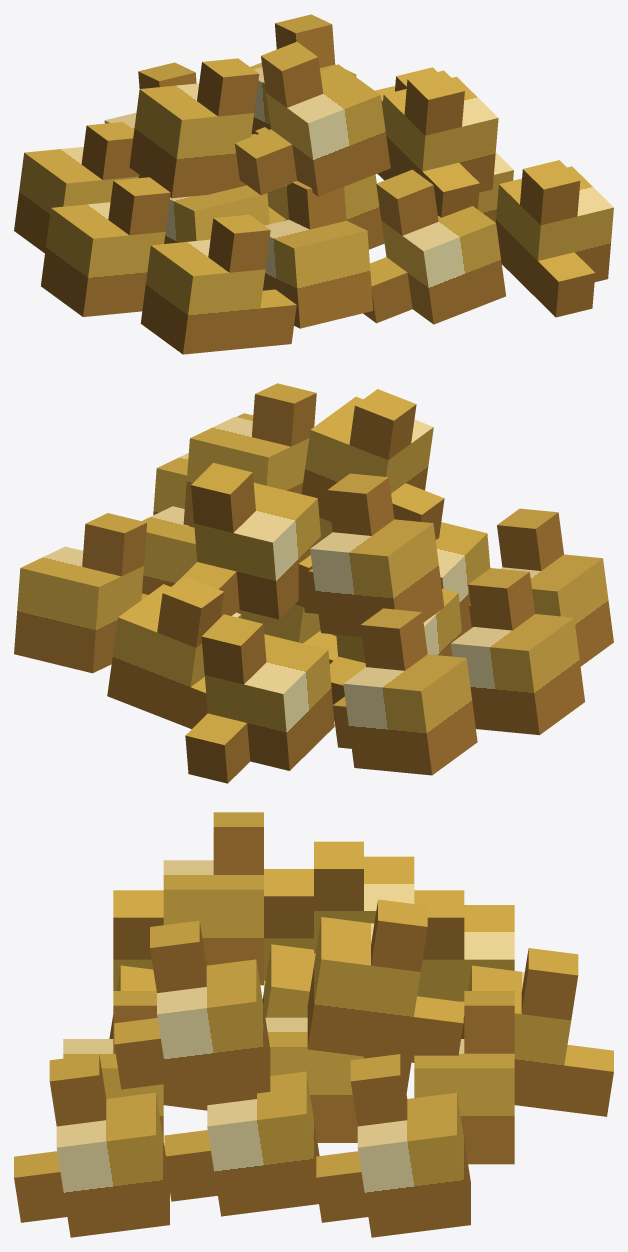
File: gold_pile.glb
3 renders of one model, top to bottom at view 1: azimuth 30°, elevation 25°; view 2: azimuth 150°, elevation 25°; view 3: azimuth 270°, elevation 25°, orthographic. The views are drawn at different scales.
Visible parts, largest first — view 1: gold_12_core, gold_0_core, gold_2_core, gold_8_core, gold_14_core, gold_13_core, gold_15_core, gold_3_core, gold_4_core, gold_9_core, gold_15_shoulder, gold_3_peak (+17 smaller); view 2: gold_4_core, gold_8_core, gold_0_core, gold_7_core, gold_5_core, gold_1_core, gold_6_core, gold_2_core, gold_3_core, gold_12_core, gold_5_peak, gold_5_shoulder (+19 smaller); view 3: gold_3_core, gold_15_core, gold_7_core, gold_11_core, gold_1_core, gold_2_core, gold_6_core, gold_10_core, gold_5_core, gold_4_core, gold_5_peak, gold_15_peak (+21 smaller).
Boxes of the visible parts, x1=… form: gold_12_core: x1=140, y1=239, x2=265, y2=354; gold_0_core: x1=129, y1=83, x2=254, y2=198; gold_2_core: x1=266, y1=64, x2=390, y2=196; gold_8_core: x1=41, y1=202, x2=165, y2=316; gold_14_core: x1=381, y1=206, x2=505, y2=324; gold_13_core: x1=263, y1=219, x2=373, y2=328; gold_15_core: x1=496, y1=166, x2=613, y2=296; gold_3_core: x1=382, y1=76, x2=498, y2=192; gold_4_core: x1=14, y1=147, x2=138, y2=253; gold_9_core: x1=164, y1=185, x2=269, y2=243; gold_15_shoulder: x1=535, y1=252, x2=595, y2=317; gold_3_peak: x1=404, y1=70, x2=464, y2=135; gold_4_core: x1=343, y1=654, x2=477, y2=775; gold_8_core: x1=451, y1=614, x2=584, y2=735; gold_0_core: x1=310, y1=519, x2=444, y2=636; gold_7_core: x1=14, y1=546, x2=143, y2=673; gold_5_core: x1=204, y1=634, x2=334, y2=770; gold_1_core: x1=194, y1=482, x2=321, y2=619; gold_6_core: x1=107, y1=584, x2=241, y2=726; gold_2_core: x1=301, y1=396, x2=433, y2=520; gold_3_core: x1=183, y1=417, x2=309, y2=526; gold_12_core: x1=500, y1=554, x2=613, y2=666; gold_5_peak: x1=201, y1=614, x2=266, y2=684; gold_5_shoulder: x1=185, y1=713, x2=250, y2=783; gold_3_core: x1=157, y1=959, x2=270, y2=1104; gold_15_core: x1=56, y1=1092, x2=169, y2=1237; gold_7_core: x1=357, y1=1092, x2=470, y2=1237; gold_11_core: x1=207, y1=1071, x2=320, y2=1216; gold_1_core: x1=307, y1=917, x2=420, y2=1061; gold_2_core: x1=163, y1=860, x2=263, y2=985; gold_6_core: x1=414, y1=1039, x2=514, y2=1164; gold_10_core: x1=265, y1=1017, x2=363, y2=1142; gold_5_core: x1=461, y1=965, x2=570, y2=1110; gold_4_core: x1=417, y1=905, x2=514, y2=1001; gold_5_peak: x1=521, y1=948, x2=578, y2=1020; gold_15_peak: x1=49, y1=1054, x2=106, y2=1126.
Bounding box in the file's own units: 12.13 × 6.25 × 11.96.
Materials: 1 (1 with a texture image).
